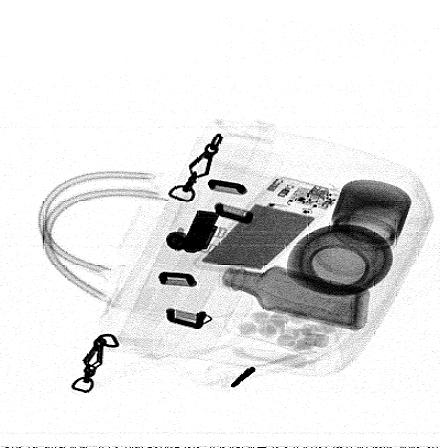Powerbank: (194, 175, 345, 280)
